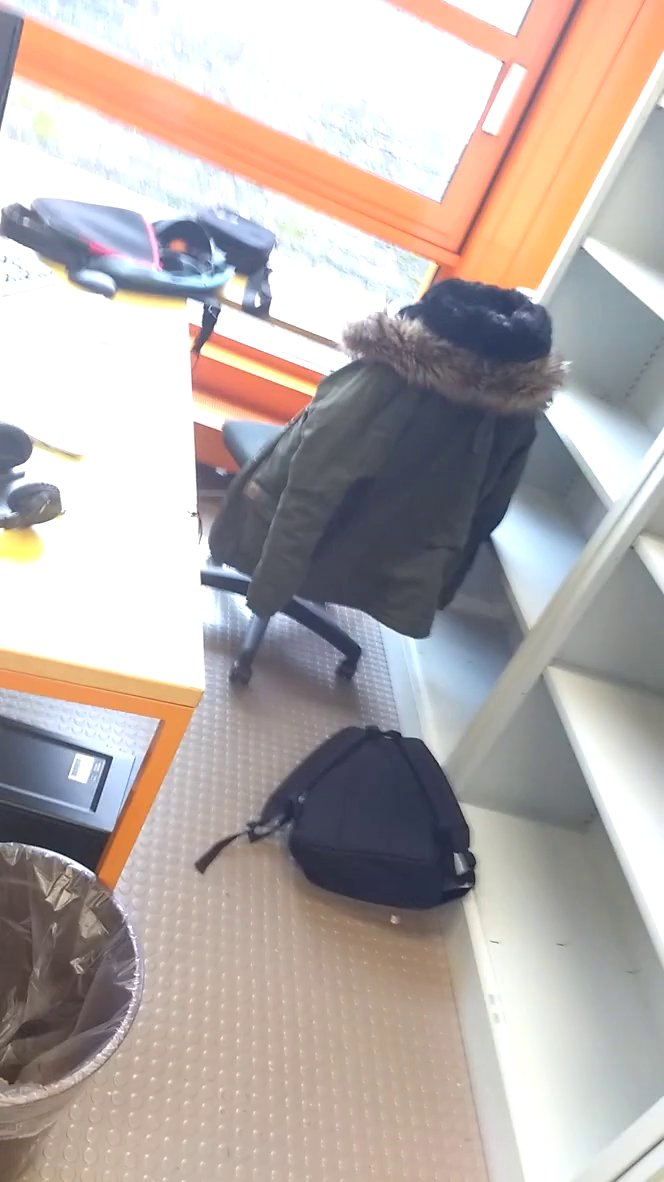bag: (202, 706, 490, 922)
bin: (1, 831, 146, 1151)
